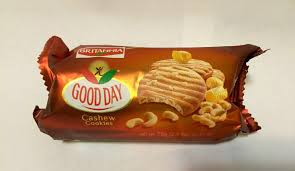gooday-small: (30, 34, 260, 147)
